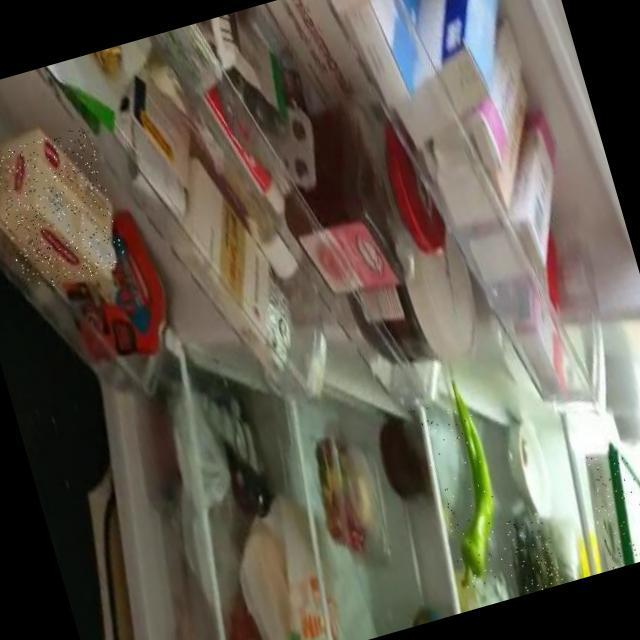cream: (575, 444, 640, 570)
green chilies: (412, 392, 517, 593)
milk: (0, 124, 126, 295)
olives: (504, 512, 563, 595)
